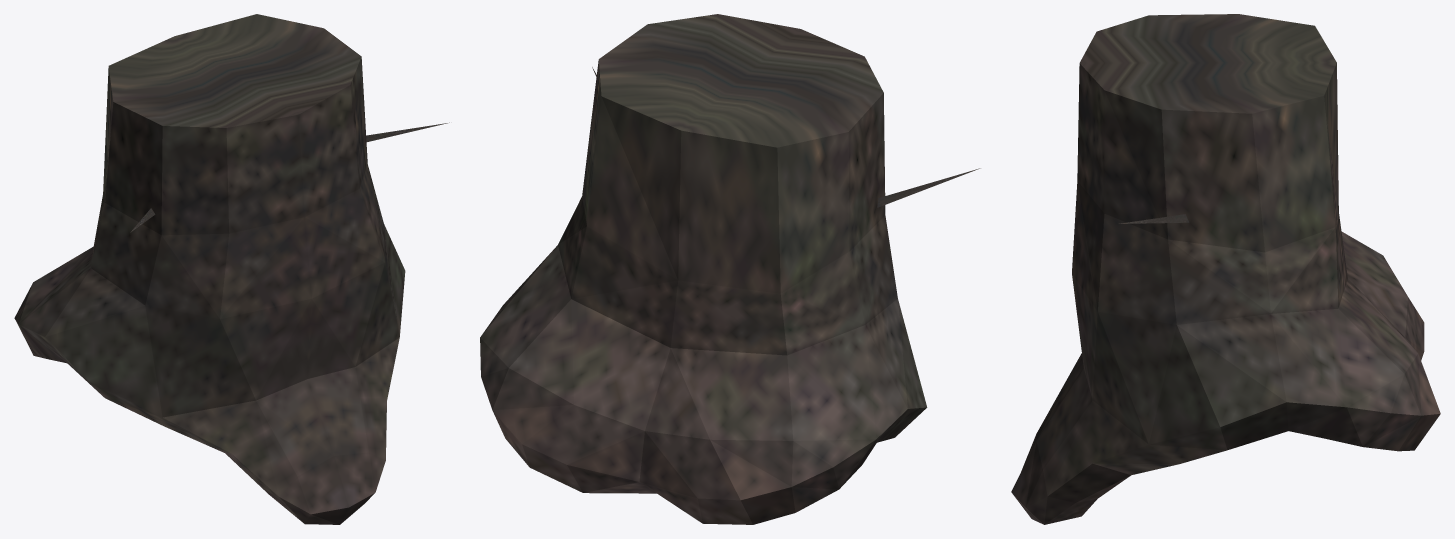
Rendered from trompa12.obj.
3 renders of one model, left to right at view 1: azimuth 30°, elevation 25°; view 2: azimuth 150°, elevation 25°; view 3: azimuth 270°, elevation 25°, orthographic. The views are drawn at different scales.
Visible parts, largest first — view 1: pasted__polySurface67 pasted__polySurface65 pasted__polySurface4; view 2: pasted__polySurface67 pasted__polySurface65 pasted__polySurface4; view 3: pasted__polySurface67 pasted__polySurface65 pasted__polySurface4.
Part boxes in pixels (box(x1,y1,x2,y2)): pasted__polySurface67 pasted__polySurface65 pasted__polySurface4: box(14, 14, 449, 524); pasted__polySurface67 pasted__polySurface65 pasted__polySurface4: box(480, 14, 980, 524); pasted__polySurface67 pasted__polySurface65 pasted__polySurface4: box(1011, 14, 1440, 524).
Size of the model in its own units: 1.21 by 1.35 by 1.16.
Materials: 1 (1 with a texture image).
